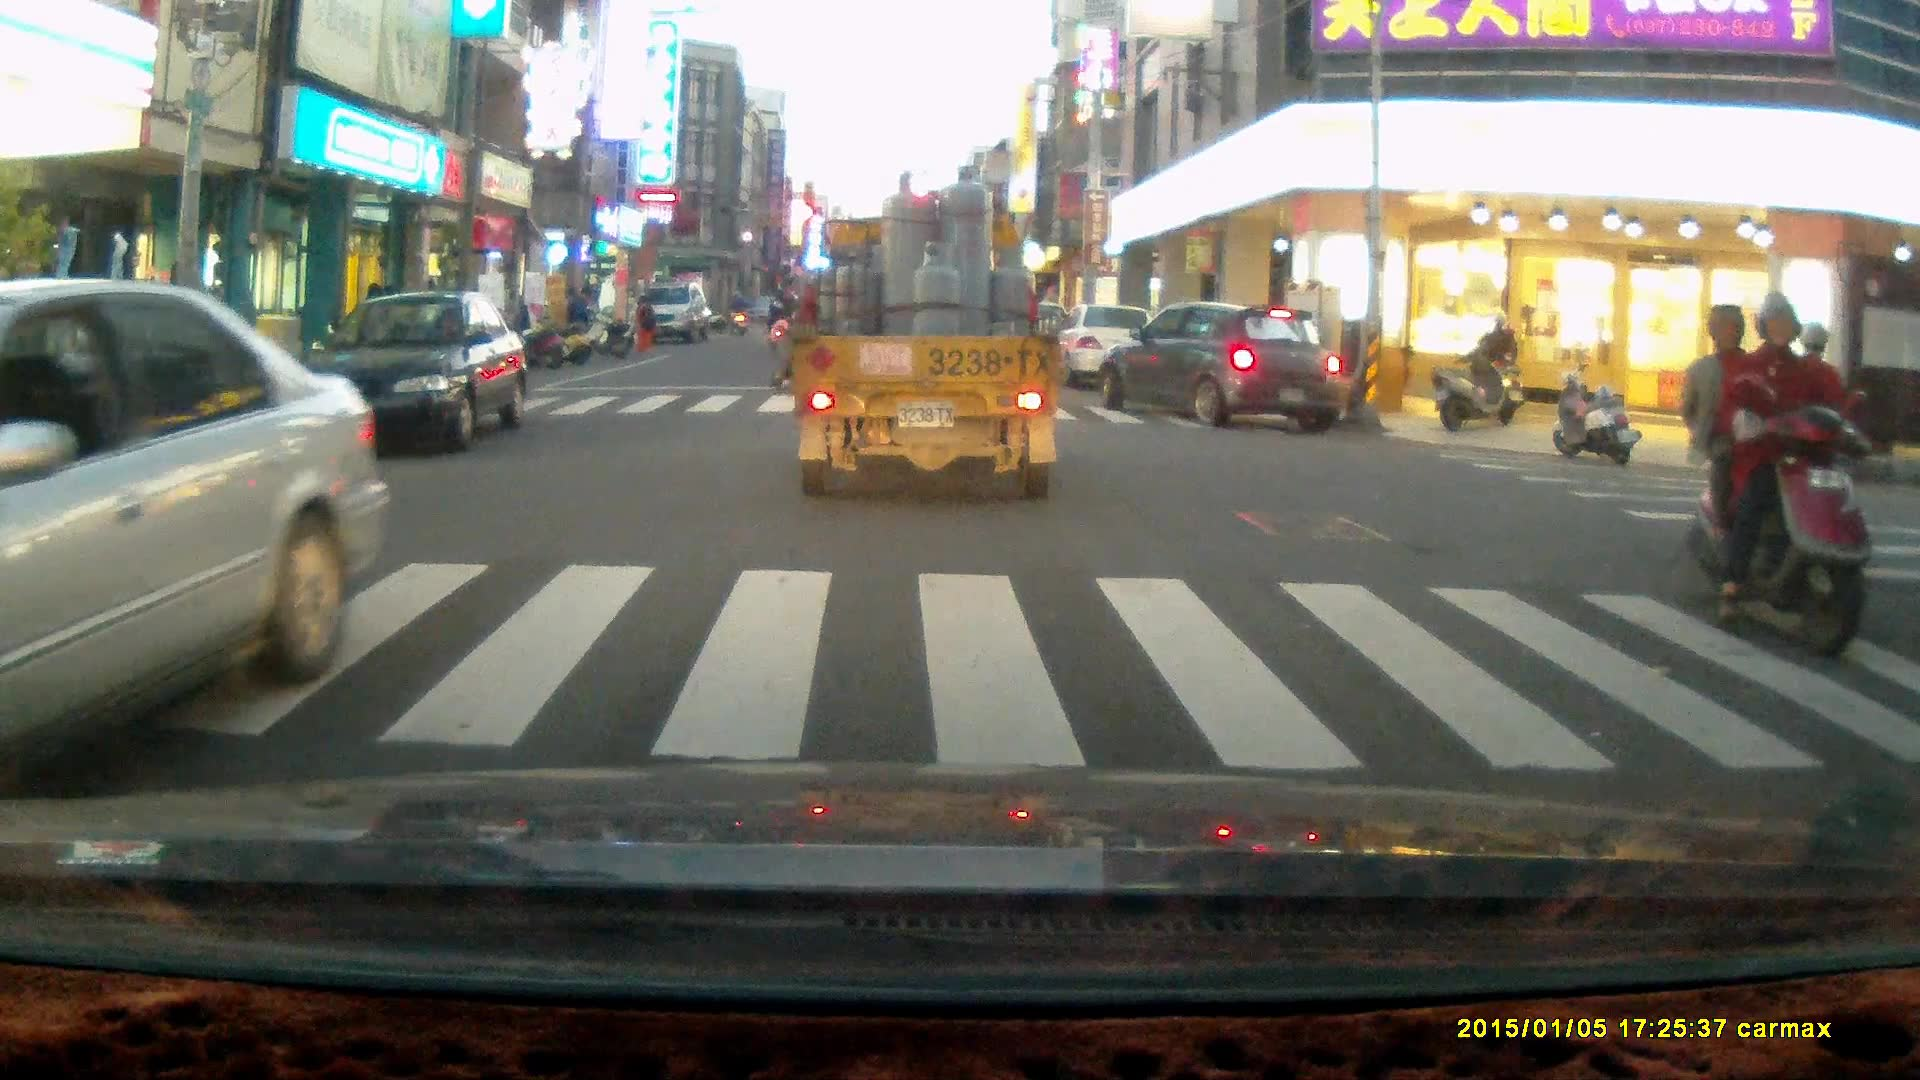pedestrian: (563, 284, 592, 350), (629, 295, 653, 355)
rider: (1676, 292, 1872, 663), (1465, 309, 1525, 428)
vehicle: (1, 277, 394, 792), (790, 162, 1072, 500), (297, 292, 530, 454), (1098, 303, 1341, 431), (1050, 306, 1170, 395), (631, 280, 705, 339)
